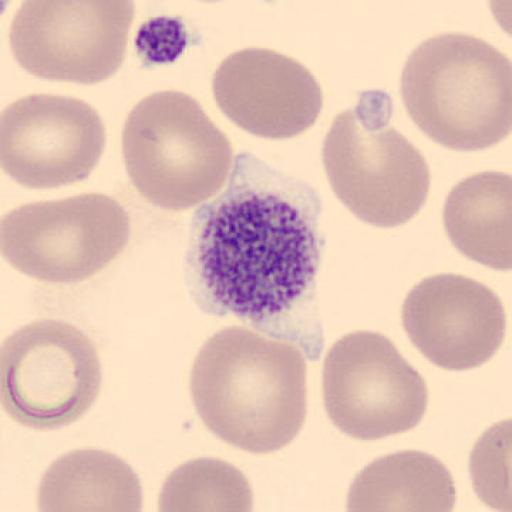Platelet: (182, 183, 324, 325), (131, 12, 195, 68)
RBC: (188, 324, 310, 457), (119, 89, 235, 213), (321, 103, 433, 231), (398, 29, 512, 154), (320, 327, 430, 443), (2, 190, 133, 286), (2, 318, 105, 432), (209, 44, 324, 142), (8, 0, 136, 87), (399, 271, 507, 374), (2, 90, 108, 192), (344, 445, 458, 512), (36, 444, 145, 512), (441, 168, 512, 272), (156, 454, 255, 512), (468, 414, 512, 512), (488, 0, 512, 38)
